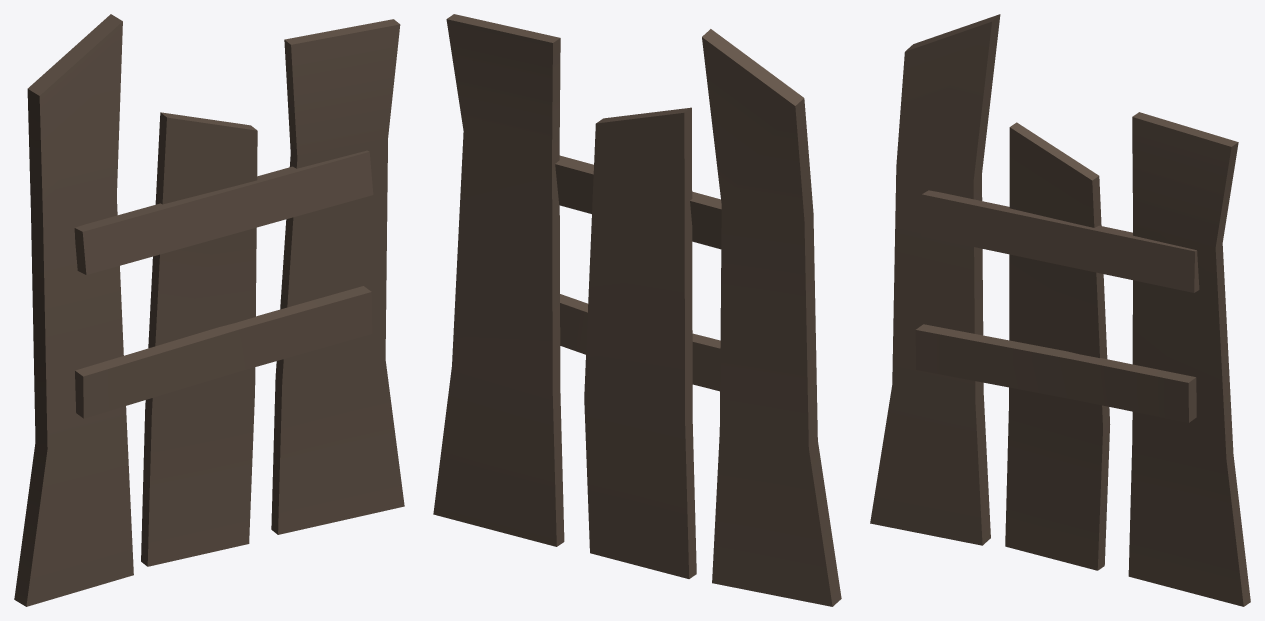
File: Fence_V03.fbx
3 views of the same model, side by side, from view 1: azimuth 30°, elevation 25°; view 2: azimuth 150°, elevation 25°; view 3: azimuth 330°, elevation 25° (orthographic). The views are drawn at different scales.
Visible parts, largest first — view 1: Fence_V03; view 2: Fence_V03; view 3: Fence_V03.
Boxes of the visible parts, x1,y1,x2,y2 form: Fence_V03: (14,14,404,606); Fence_V03: (433,14,841,606); Fence_V03: (870,14,1250,606).
Bounding box in the file's own units: 1.76 × 2.36 × 0.2426.
